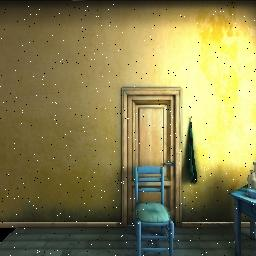chair: (129, 162, 179, 256)
door: (119, 87, 180, 224)
